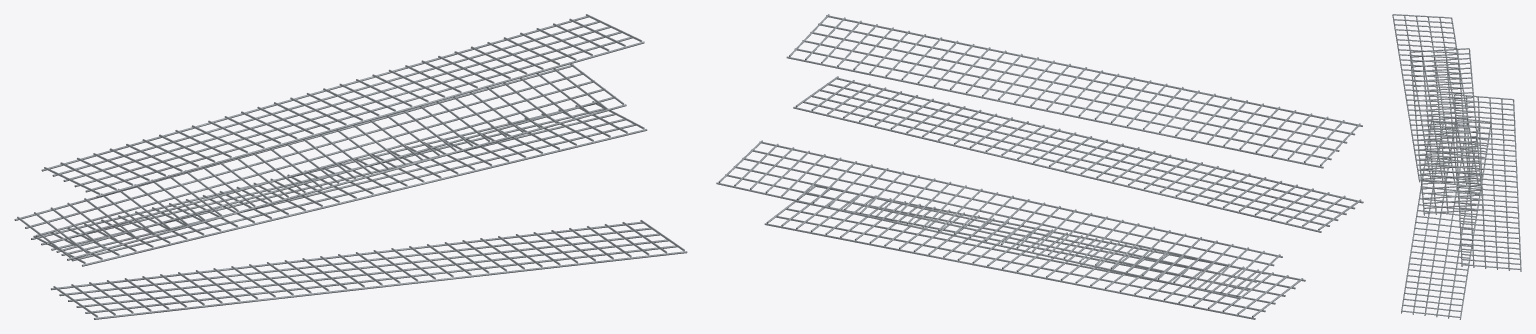
File: ALV-FIX-001_anim.glb
The picture shows the model from 3 angles, left to right: view 1: azimuth 30°, elevation 25°; view 2: azimuth 150°, elevation 25°; view 3: azimuth 270°, elevation 25°; orthographic projection. The views are drawn at different scales.
Visible parts, largest first — view 1: ALV-FIX-001_anim2, ALV-FIX-001_anim3, ALV-FIX-001_anim0, ALV-FIX-001_anim1; view 2: ALV-FIX-001_anim1, ALV-FIX-001_anim3, ALV-FIX-001_anim2, ALV-FIX-001_anim0; view 3: ALV-FIX-001_anim3, ALV-FIX-001_anim1, ALV-FIX-001_anim0, ALV-FIX-001_anim2.
Part boxes in pixels (x1,y1,x2,y2): ALV-FIX-001_anim2: (14,64,626,260); ALV-FIX-001_anim3: (41,14,644,197); ALV-FIX-001_anim0: (51,220,687,319); ALV-FIX-001_anim1: (31,101,647,266); ALV-FIX-001_anim1: (716,140,1282,299); ALV-FIX-001_anim3: (786,14,1362,168); ALV-FIX-001_anim2: (793,76,1363,232); ALV-FIX-001_anim0: (764,185,1305,319); ALV-FIX-001_anim3: (1392,14,1478,185); ALV-FIX-001_anim1: (1454,94,1521,271); ALV-FIX-001_anim0: (1401,115,1491,319); ALV-FIX-001_anim2: (1409,48,1484,215).
Bounding box in the file's own units: 0.5481 × 0.1821 × 0.1638.
Materials: 1 (1 with a texture image).
